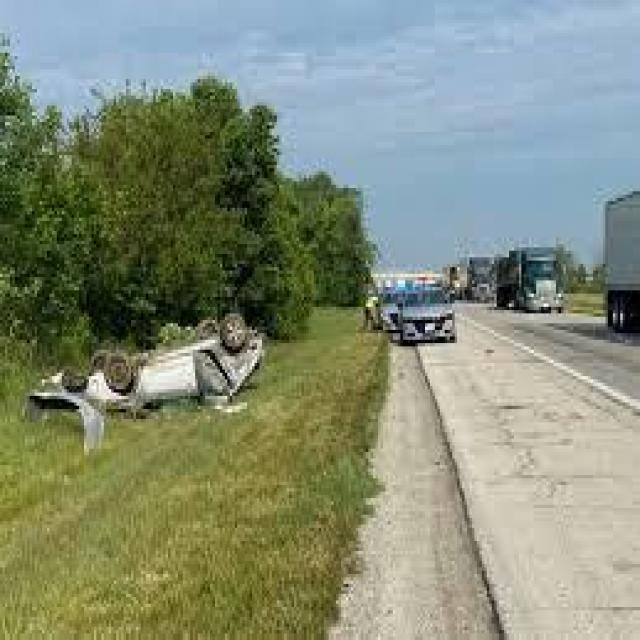single accident: (28, 252, 308, 472)
